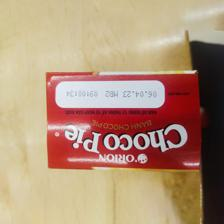Chocopie: (42, 68, 202, 173)
